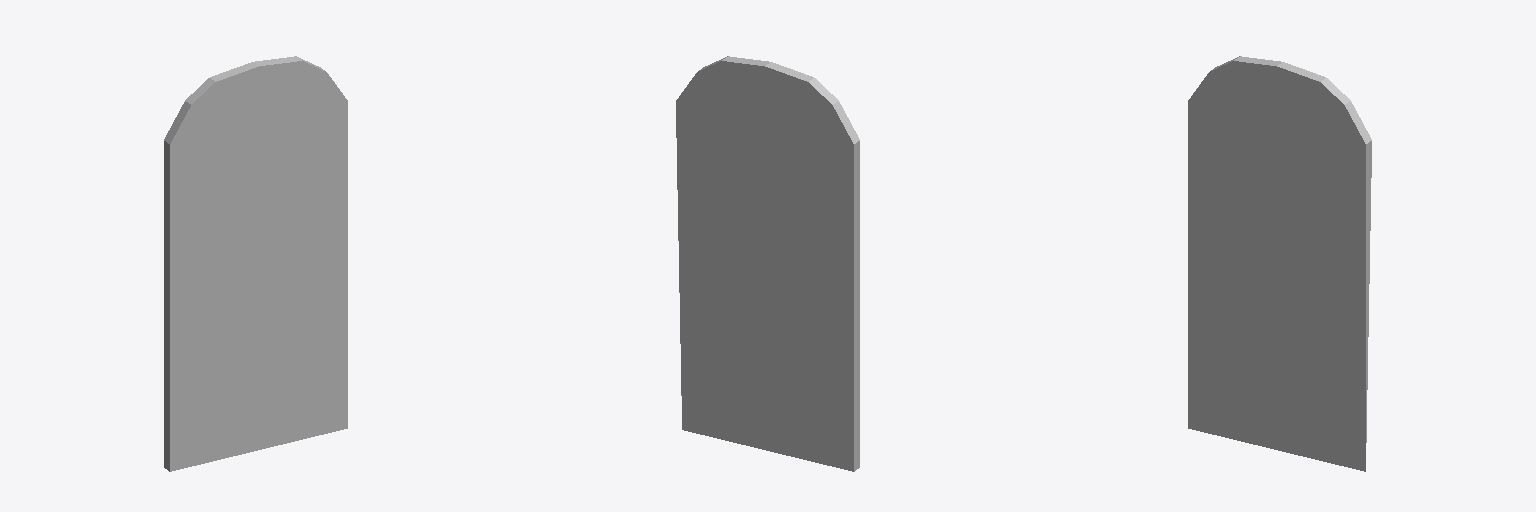
Rendered from stoneDoor.obj.
3 renders of one model, left to right at view 1: azimuth 30°, elevation 25°; view 2: azimuth 150°, elevation 25°; view 3: azimuth 330°, elevation 25°, orthographic.
Visible parts, largest first — view 1: stone_door4 Hall; view 2: stone_door4 Hall; view 3: stone_door4 Hall.
Part boxes in pixels (bbox=[...]): stone_door4 Hall: bbox=[164, 56, 347, 471]; stone_door4 Hall: bbox=[676, 56, 859, 471]; stone_door4 Hall: bbox=[1188, 56, 1371, 471].
Size of the model in its own units: 5.98 by 12.3 by 0.3636.